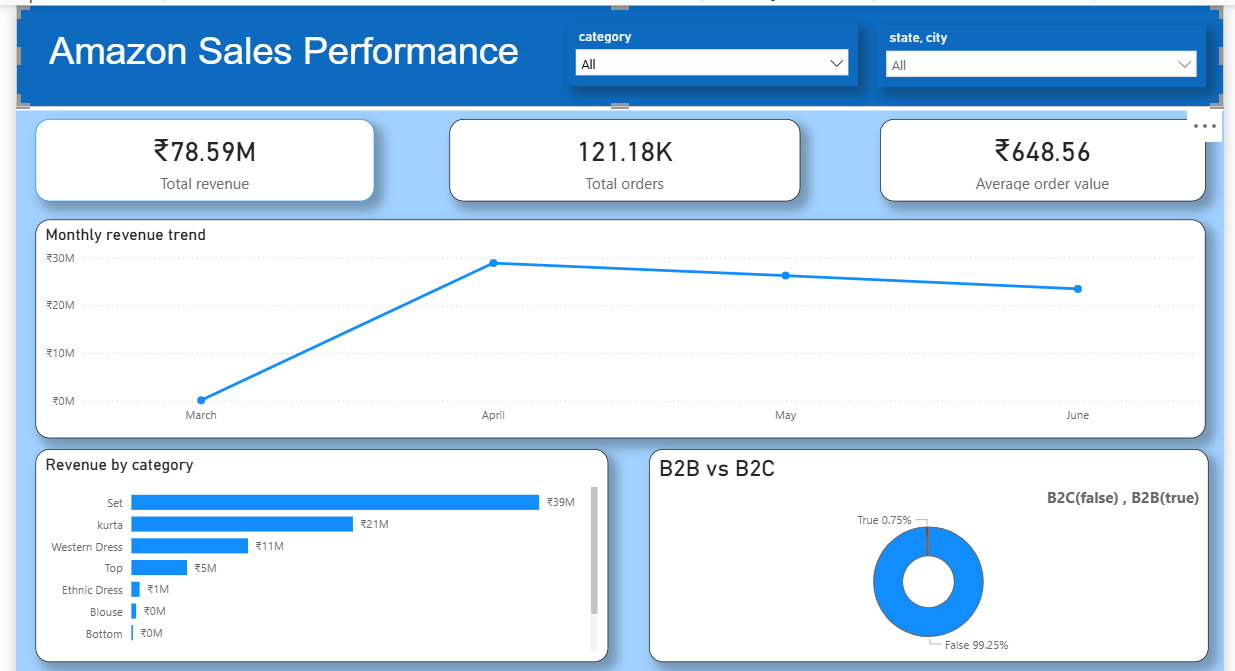

The page's visual inventory and layout, read from the dashboard file:
{"tool":"powerbi","page":{"name":"Executive Summary","canvas":[1280,720],"ordinal":0},"visuals":[{"type":"card","fields":{"Values":["Sum(public amazon_sales.amount)"]},"box":[20.7,120.9,359.5,87.5],"z":0},{"type":"card","fields":{"Values":["Count(public amazon_sales.id)"]},"box":[459.7,120.9,372.2,87.5],"z":1000},{"type":"card","fields":{"Values":["Avg(public amazon_sales.amount)"]},"box":[916.2,120.9,345.2,87.5],"z":2000},{"type":"lineChart","title":"Monthly revenue trend ","fields":{"Y":["Sum(public amazon_sales.amount)"],"Category":["public amazon_sales.date.Variation.Date Hierarchy.Month"]},"box":[20.7,227.5,1240.7,232.2],"z":3000},{"type":"clusteredBarChart","title":"Revenue by category","fields":{"Category":["public amazon_sales.category"],"Y":["Sum(public amazon_sales.amount)"]},"box":[20.7,470.8,607.6,225.9],"z":4000},{"type":"donutChart","title":"B2B vs B2C","fields":{"Category":["public amazon_sales.b2b"],"Y":["Sum(public amazon_sales.amount)"]},"box":[671.2,470.8,593.3,225.9],"z":5000},{"type":"textbox","box":[0,101.6,1280.6,6.5],"z":6000},{"type":"shape","box":[0,0,1280.4,108.2],"z":7000},{"type":"slicer","fields":{"Values":["public amazon_sales.category"]},"box":[583.8,19.1,308.6,66.8],"z":8000},{"type":"slicer","fields":{"Values":["public amazon_sales.state","public amazon_sales.city"]},"box":[913,20.7,348.3,66.8],"z":9000}]}

Visuals, with their boxes on the page's 1280x720 design canvas (x1, y1, x2, y2). These are canvas units, not pixel positions in the 1235x671 screenshot, which may show the page scaled, cropped or inside an application window:
card - Sum(public amazon_sales.amount): 21/121/380/208
card - Count(public amazon_sales.id): 460/121/832/208
card - Avg(public amazon_sales.amount): 916/121/1261/208
"Monthly revenue trend " lineChart: 21/228/1261/460
"Revenue by category" clusteredBarChart: 21/471/628/697
"B2B vs B2C" donutChart: 671/471/1264/697
textbox: 0/102/1281/108
shape: 0/0/1280/108
slicer - public amazon_sales.category: 584/19/892/86
slicer - public amazon_sales.state x public amazon_sales.city: 913/21/1261/88
